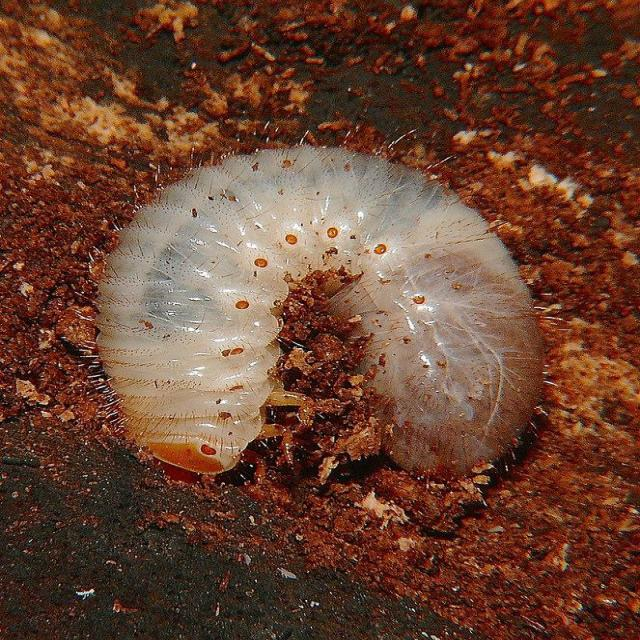Grub-Adult-: (76, 128, 574, 515)
